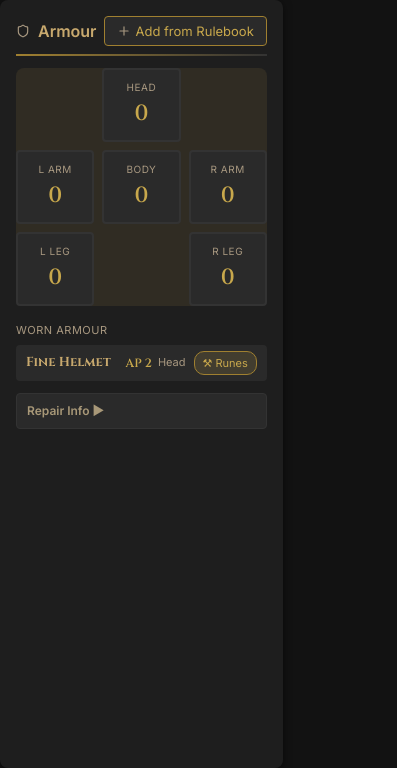
Test: ArmourMap — location selection › shows contributing item qualities when present
Click the button with test id "location-head": coordinates (141, 105) [102,68,181,142]
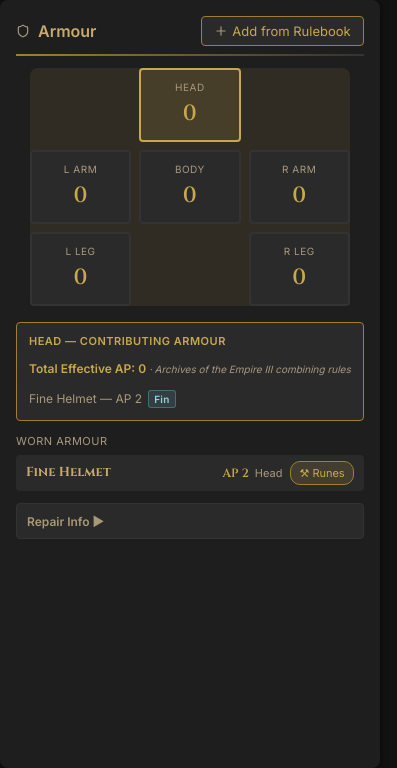
expect the element with test id "contributing-armour" shows "Fine": met, box [29,390,97,406]
